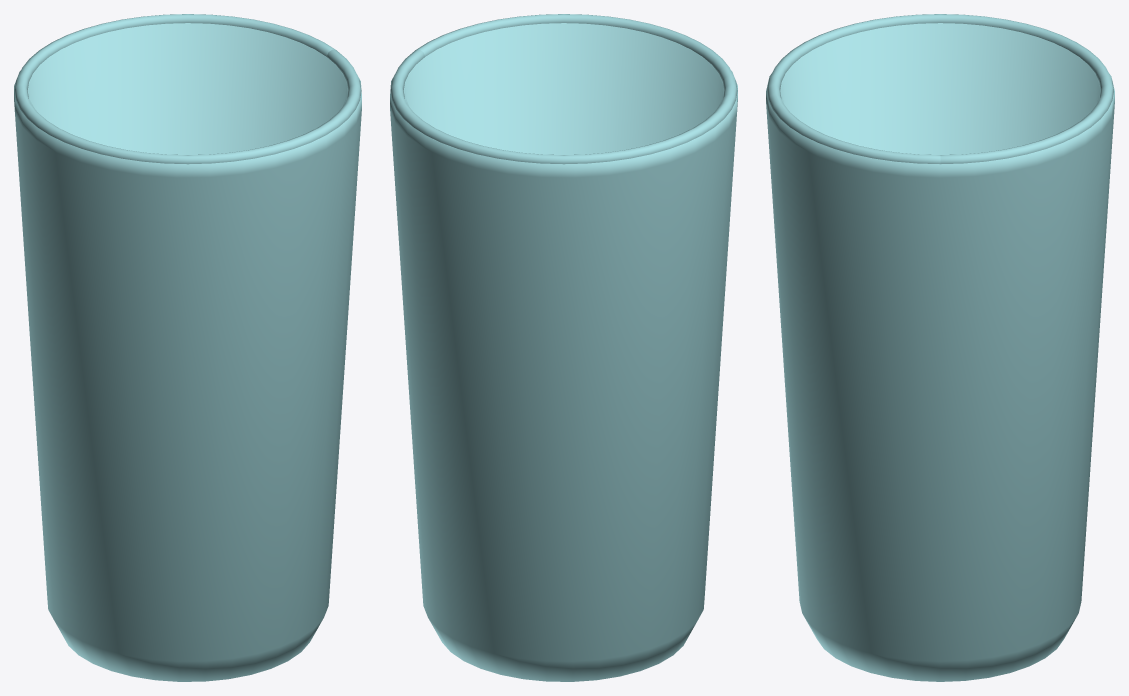
The model's file is workbench_vase.glb.
The picture shows the model from 3 angles, left to right: view 1: azimuth 30°, elevation 25°; view 2: azimuth 150°, elevation 25°; view 3: azimuth 270°, elevation 25°; orthographic projection.
Parts seen in each view (by area): view 1: Hollow_cyan_vase, Vase_rim; view 2: Hollow_cyan_vase, Vase_rim; view 3: Hollow_cyan_vase, Vase_rim.
Boxes of the visible parts, left/top/right/bottom form: Hollow_cyan_vase: left=14, top=23, right=361, bottom=681; Vase_rim: left=14, top=14, right=361, bottom=164; Hollow_cyan_vase: left=390, top=23, right=737, bottom=681; Vase_rim: left=390, top=14, right=737, bottom=164; Hollow_cyan_vase: left=766, top=23, right=1114, bottom=681; Vase_rim: left=767, top=14, right=1113, bottom=164.
Bounding box in the file's own units: 0.094 × 0.1618 × 0.094.
